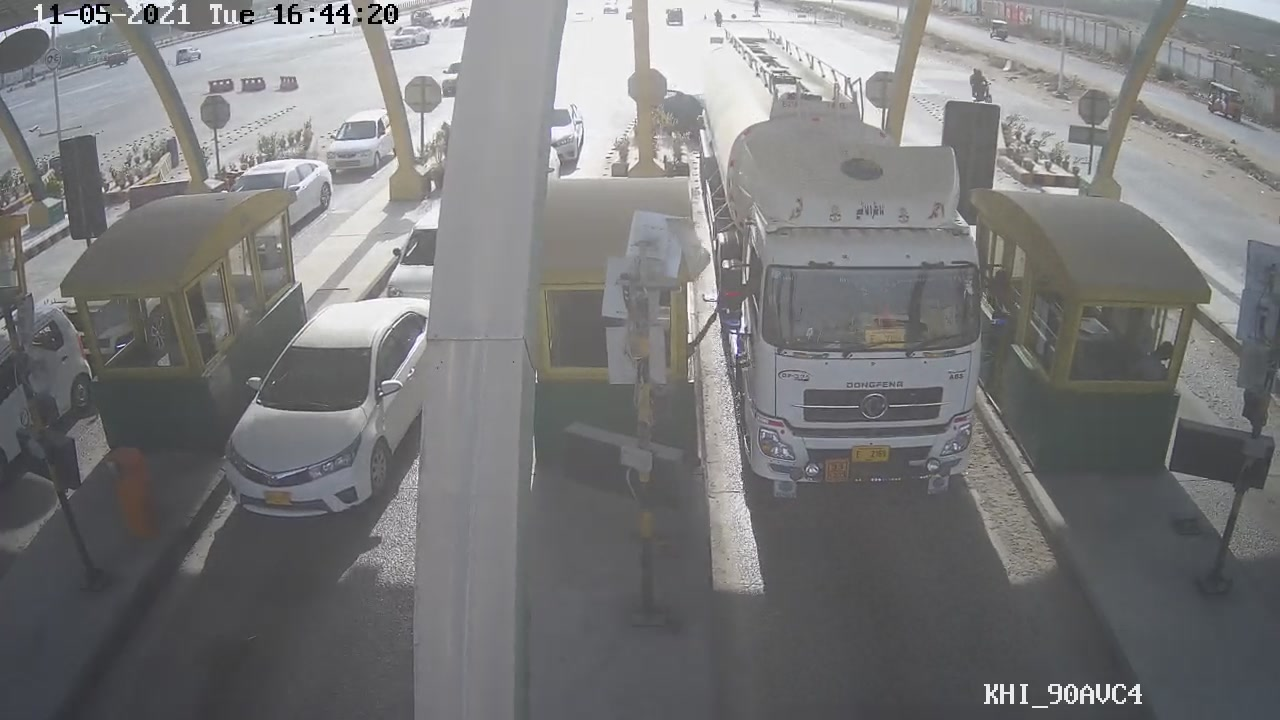F6: (689, 26, 995, 506)
